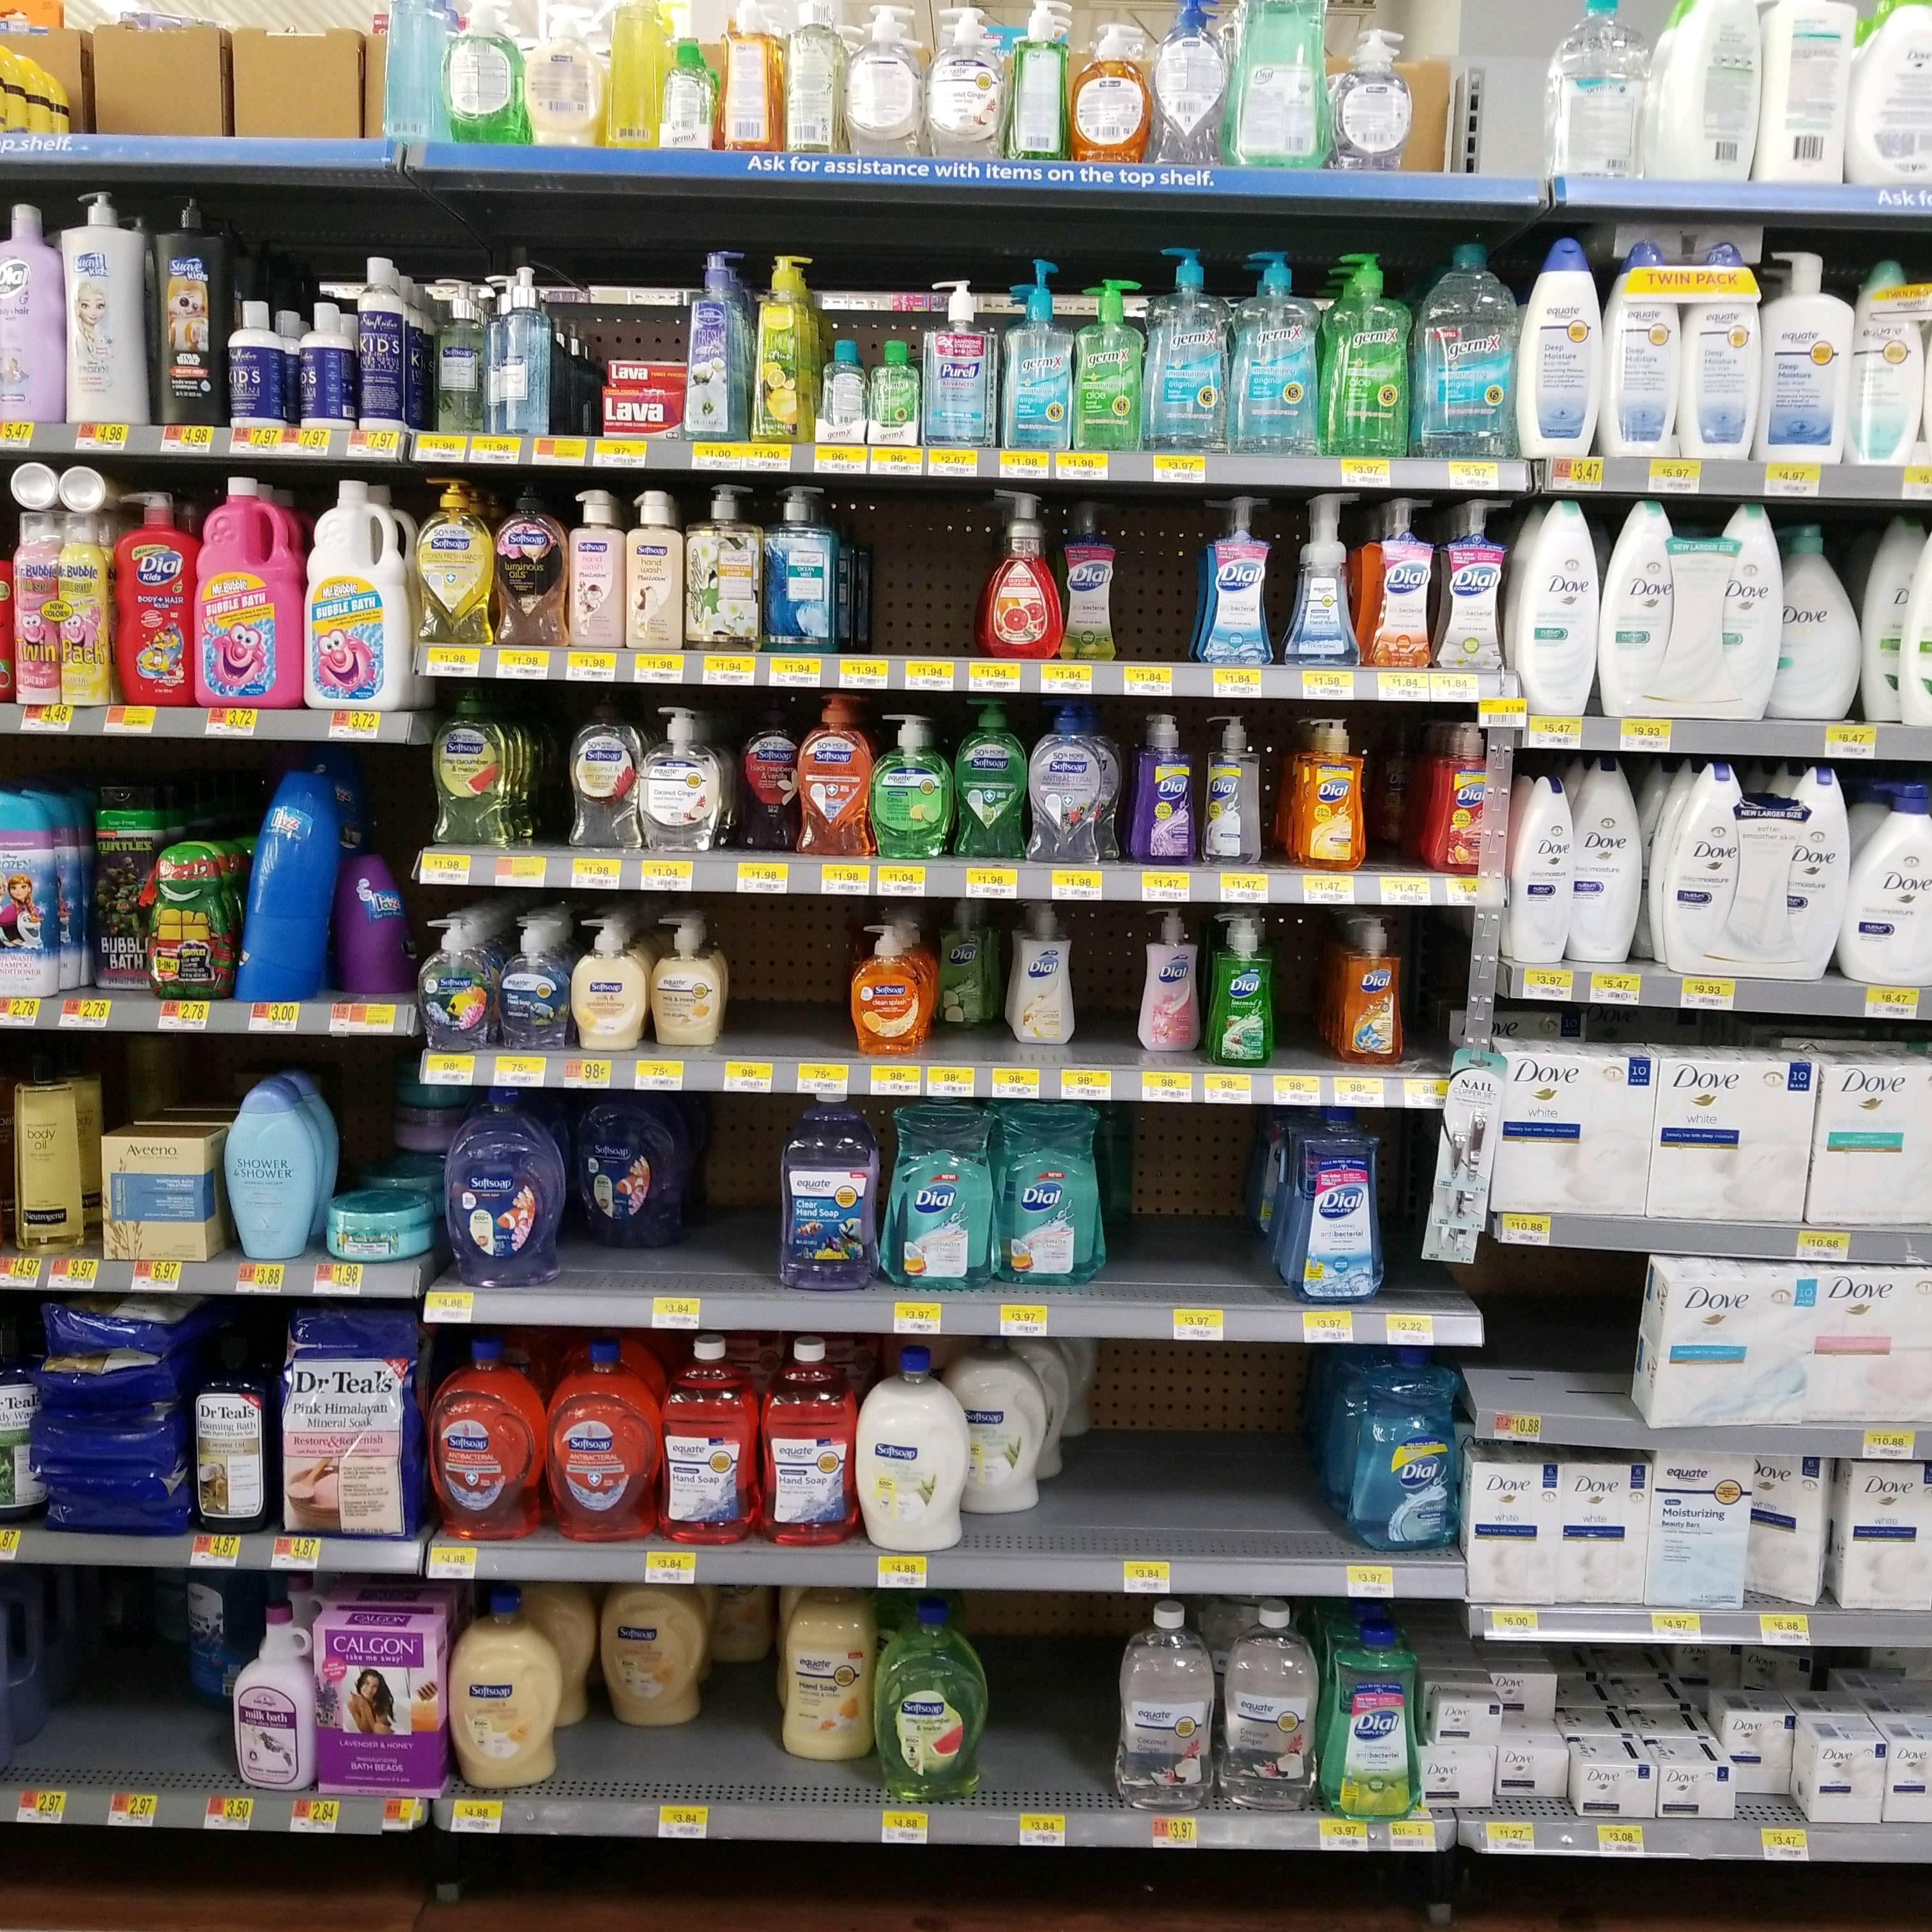misalignment: (1640, 1254, 1829, 1431), (12, 458, 106, 522), (823, 340, 865, 425)
